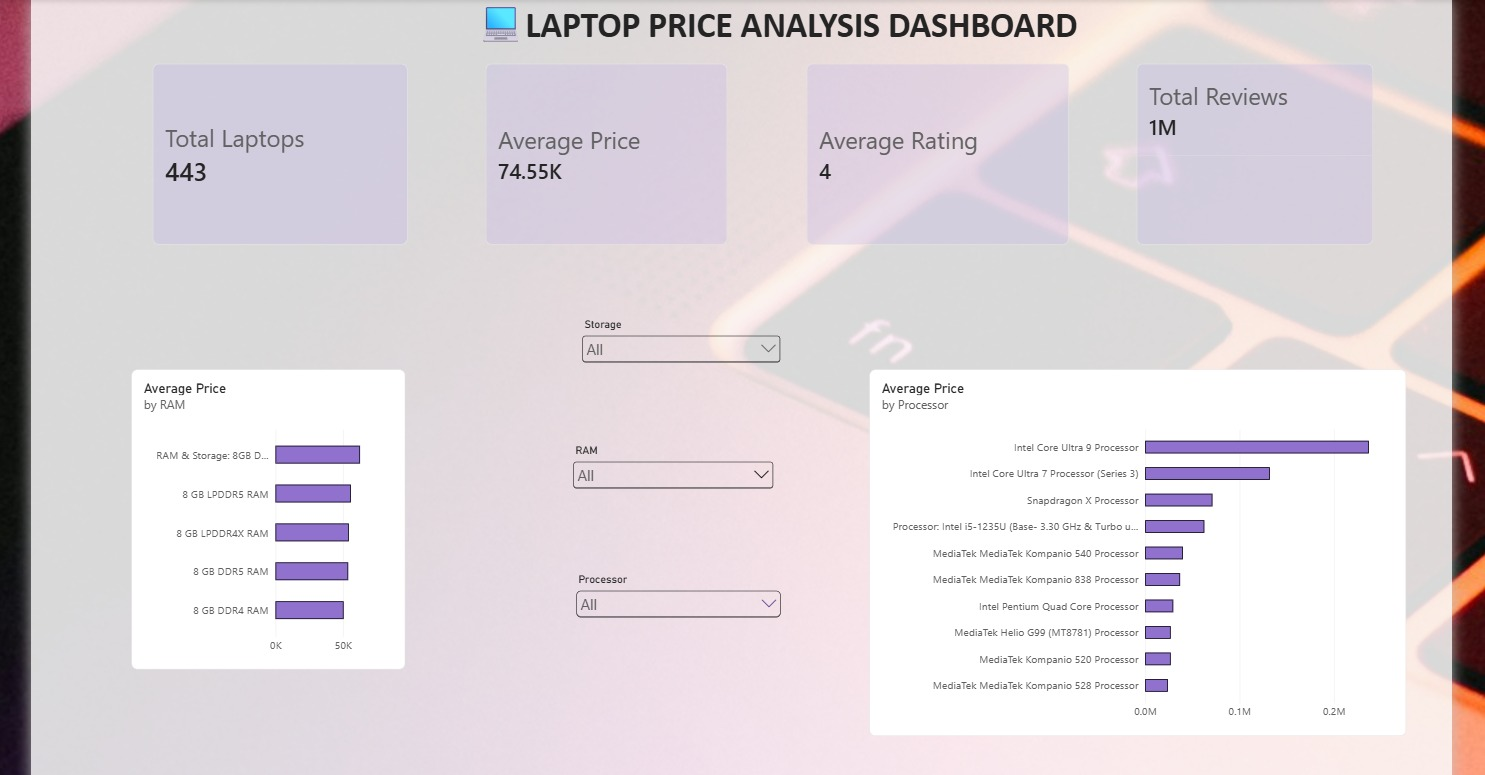

What the dashboard file says about the page in this screenshot:
{"tool":"powerbi","page":{"name":"Page 1","canvas":[1920,1080],"ordinal":0},"visuals":[{"type":"cardVisual","fields":{"Data":["laptop_cleaned.Average Price"]},"box":[615,87.5,327.5,245],"z":0},{"type":"cardVisual","fields":{"Data":["laptop_cleaned.Total Laptops"]},"box":[165,87.5,345,245],"z":1000},{"type":"cardVisual","fields":{"Data":["laptop_cleaned.Average Rating"]},"box":[1047.5,87.5,355,245],"z":2000},{"type":"cardVisual","fields":{"Data":["laptop_cleaned.Total Reviews"]},"box":[1495,87.5,320,245],"z":3000},{"type":"clusteredBarChart","fields":{"Category":["laptop_cleaned.RAM"],"Y":["laptop_cleaned.Average Price"]},"box":[135,500,370,405],"z":4000},{"type":"clusteredBarChart","fields":{"Category":["laptop_cleaned.Processor"],"Y":["laptop_cleaned.Average Price"]},"box":[1132.5,500,725,495],"z":5000},{"type":"slicer","fields":{"Values":["laptop_cleaned.Processor"]},"box":[732.5,777.5,286,170],"z":6000},{"type":"slicer","fields":{"Values":["laptop_cleaned.RAM"]},"box":[727.5,602.5,280,345],"z":7000},{"type":"slicer","fields":{"Values":["laptop_cleaned.Storage"]},"box":[740,432.5,277.5,170],"z":8000},{"type":"textbox","box":[320,0,1376,72],"z":9000}]}

Visuals, with their boxes on the page's 1920x1080 design canvas (x1, y1, x2, y2). These are canvas units, not pixel positions in the 1485x775 screenshot, which may show the page scaled, cropped or inside an application window:
cardVisual - laptop_cleaned.Average Price: [x1=615, y1=88, x2=942, y2=332]
cardVisual - laptop_cleaned.Total Laptops: [x1=165, y1=88, x2=510, y2=332]
cardVisual - laptop_cleaned.Average Rating: [x1=1048, y1=88, x2=1402, y2=332]
cardVisual - laptop_cleaned.Total Reviews: [x1=1495, y1=88, x2=1815, y2=332]
clusteredBarChart - laptop_cleaned.RAM x laptop_cleaned.Average Price: [x1=135, y1=500, x2=505, y2=905]
clusteredBarChart - laptop_cleaned.Processor x laptop_cleaned.Average Price: [x1=1132, y1=500, x2=1858, y2=995]
slicer - laptop_cleaned.Processor: [x1=732, y1=778, x2=1018, y2=948]
slicer - laptop_cleaned.RAM: [x1=728, y1=602, x2=1008, y2=948]
slicer - laptop_cleaned.Storage: [x1=740, y1=432, x2=1018, y2=602]
textbox: [x1=320, y1=0, x2=1696, y2=72]
